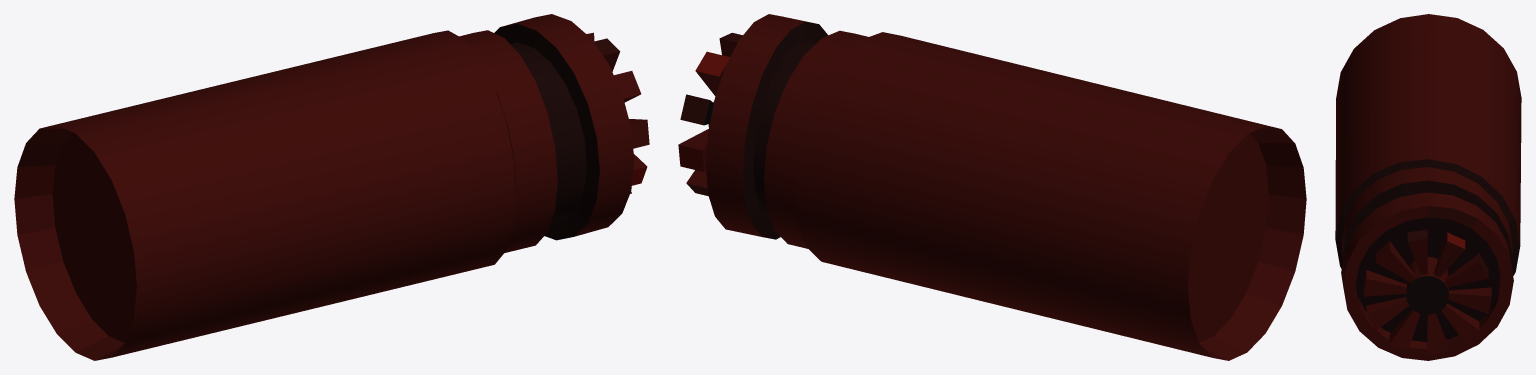
File: Cog.fbx
3 renders of one model, left to right at view 1: azimuth 30°, elevation 25°; view 2: azimuth 150°, elevation 25°; view 3: azimuth 270°, elevation 25°, orthographic. The views are drawn at different scales.
Visible parts, largest first — view 1: pCylinder2; view 2: pCylinder2; view 3: pCylinder2.
Boxes of the visible parts, x1,y1,x2,y2 form: pCylinder2: (14, 14, 649, 360); pCylinder2: (678, 14, 1306, 360); pCylinder2: (1335, 14, 1521, 360).
Size of the model in its own units: 209 by 82.25 by 82.55.
